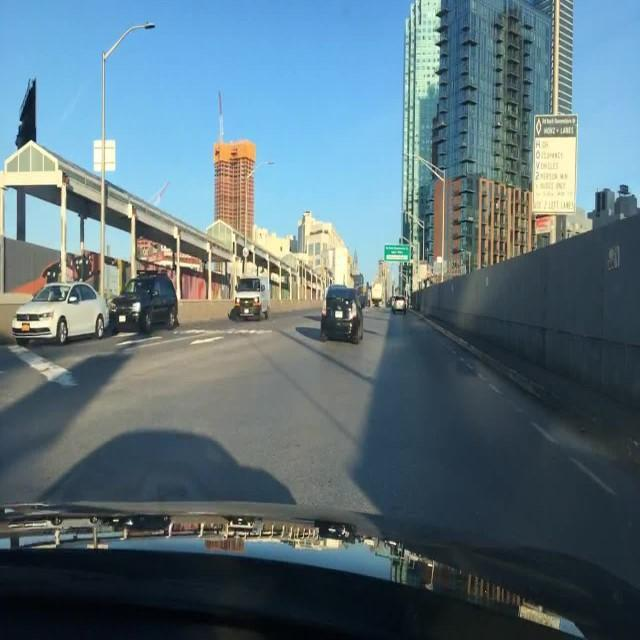normal: (10, 251, 114, 360), (316, 250, 385, 348), (113, 266, 188, 343)
